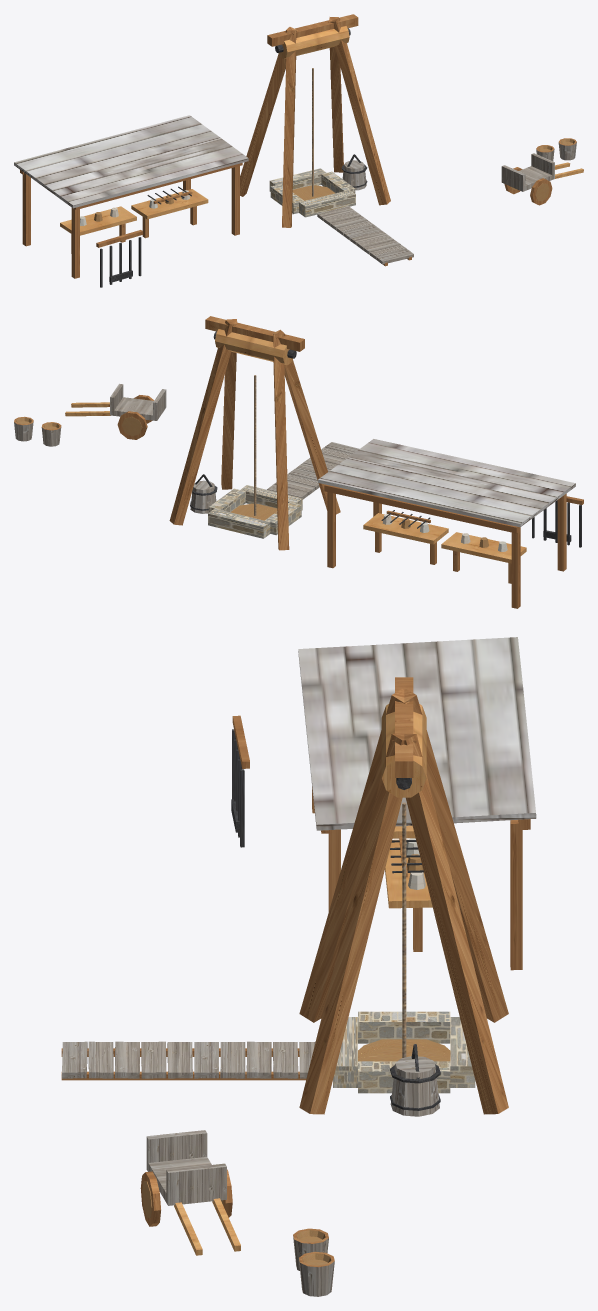
The model's file is mineworks_textured_v1.glb.
3 renders of one model, top to bottom at view 1: azimuth 30°, elevation 25°; view 2: azimuth 150°, elevation 25°; view 3: azimuth 270°, elevation 25°, orthographic. The views are drawn at different scales.
Visible parts, largest first — view 1: MW_Shingle_Ore_Sorting_Shelter, MW_Tall_Timber_Winding_Headframe, MW_Deep_Square_Shaft_Collar, MW_Roadside_Shaft_Walkway, MW_Empty_Ore_Handcart, MW_Ore_And_Clay_Sieve, MW_Hand_Sorting_Bench, MW_Fixed_Mining_Tool_Rack, MW_Grounded_Hoist_Bucket, MW_Service_Water_Buckets; view 2: MW_Shingle_Ore_Sorting_Shelter, MW_Tall_Timber_Winding_Headframe, MW_Deep_Square_Shaft_Collar, MW_Empty_Ore_Handcart, MW_Ore_And_Clay_Sieve, MW_Roadside_Shaft_Walkway, MW_Hand_Sorting_Bench, MW_Service_Water_Buckets, MW_Fixed_Mining_Tool_Rack, MW_Grounded_Hoist_Bucket; view 3: MW_Shingle_Ore_Sorting_Shelter, MW_Tall_Timber_Winding_Headframe, MW_Roadside_Shaft_Walkway, MW_Deep_Square_Shaft_Collar, MW_Empty_Ore_Handcart, MW_Ore_And_Clay_Sieve, MW_Grounded_Hoist_Bucket, MW_Service_Water_Buckets, MW_Fixed_Mining_Tool_Rack.
Boxes of the visible parts, left/top/right/bottom form: MW_Shingle_Ore_Sorting_Shelter: left=14, top=115, right=248, bottom=278; MW_Tall_Timber_Winding_Headframe: left=240, top=14, right=390, bottom=227; MW_Deep_Square_Shaft_Collar: left=269, top=168, right=355, bottom=217; MW_Roadside_Shaft_Walkway: left=317, top=206, right=413, bottom=266; MW_Empty_Ore_Handcart: left=501, top=153, right=583, bottom=205; MW_Ore_And_Clay_Sieve: left=131, top=186, right=208, bottom=238; MW_Hand_Sorting_Bench: left=60, top=206, right=136, bottom=253; MW_Fixed_Mining_Tool_Rack: left=96, top=230, right=142, bottom=287; MW_Grounded_Hoist_Bucket: left=341, top=154, right=367, bottom=190; MW_Service_Water_Buckets: left=536, top=138, right=576, bottom=161; MW_Shingle_Ore_Sorting_Shelter: left=318, top=439, right=575, bottom=608; MW_Tall_Timber_Winding_Headframe: left=169, top=316, right=340, bottom=550; MW_Deep_Square_Shaft_Collar: left=208, top=485, right=302, bottom=538; MW_Empty_Ore_Handcart: left=65, top=383, right=166, bottom=439; MW_Ore_And_Clay_Sieve: left=363, top=510, right=448, bottom=564; MW_Roadside_Shaft_Walkway: left=267, top=442, right=359, bottom=499; MW_Hand_Sorting_Bench: left=441, top=532, right=526, bottom=583; MW_Service_Water_Buckets: left=14, top=416, right=61, bottom=446; MW_Fixed_Mining_Tool_Rack: left=532, top=496, right=583, bottom=547; MW_Grounded_Hoist_Bucket: left=190, top=474, right=217, bottom=513; MW_Shingle_Ore_Sorting_Shelter: left=298, top=637, right=536, bottom=970; MW_Tall_Timber_Winding_Headframe: left=299, top=677, right=508, bottom=1114; MW_Roadside_Shaft_Walkway: left=61, top=1041, right=315, bottom=1080; MW_Deep_Square_Shaft_Collar: left=333, top=1011, right=475, bottom=1093; MW_Empty_Ore_Handcart: left=140, top=1130, right=240, bottom=1255; MW_Ore_And_Clay_Sieve: left=385, top=835, right=432, bottom=951; MW_Grounded_Hoist_Bucket: left=390, top=1044, right=440, bottom=1116; MW_Service_Water_Buckets: left=293, top=1228, right=334, bottom=1296; MW_Fixed_Mining_Tool_Rack: left=231, top=715, right=249, bottom=847.
Size of the model in its own units: 17.93 by 5.91 by 7.21.
Materials: 11 (11 with a texture image).
